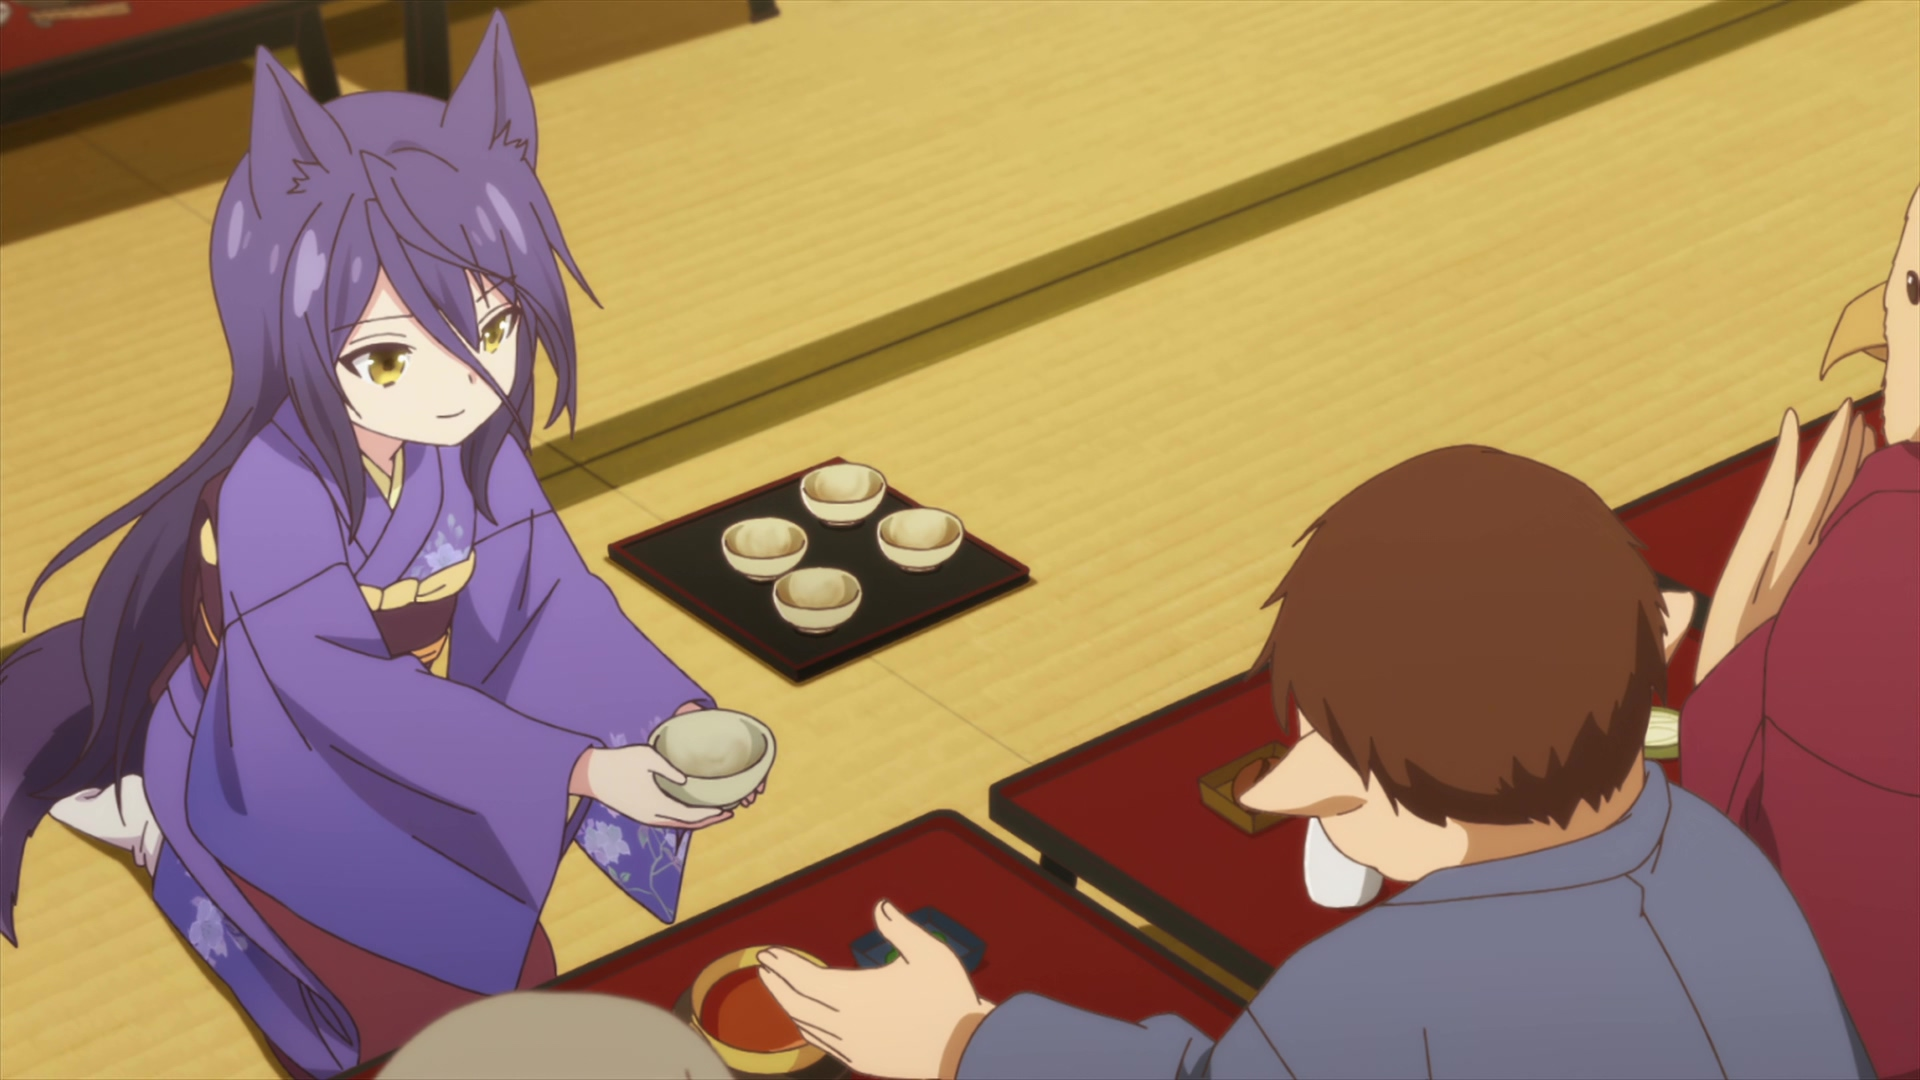其他: (760, 444, 1870, 1080), (1673, 189, 1920, 1080)
皋: (1, 9, 774, 1080)
